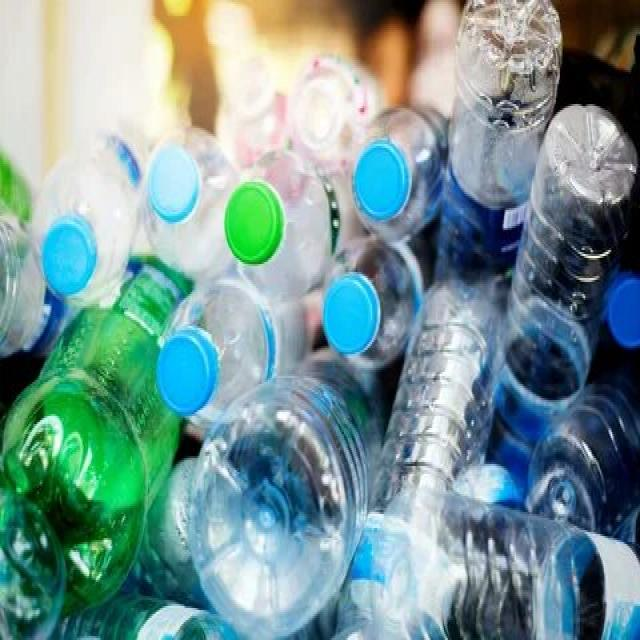green: (3, 305, 165, 602)
